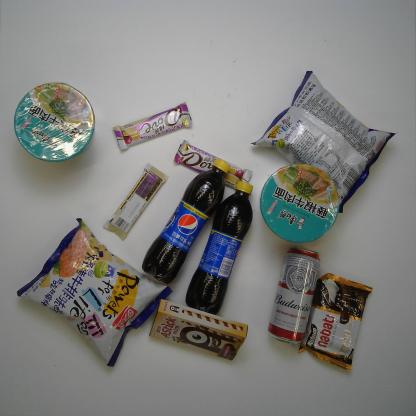Alcohol: (271, 248, 320, 351)
Chocolate: (103, 167, 171, 241), (111, 98, 195, 157), (173, 139, 250, 194)
Dessert: (299, 272, 376, 374), (145, 301, 245, 361)
Drink: (146, 161, 232, 287), (190, 180, 256, 322)
Instant Noodles: (266, 164, 343, 250), (13, 82, 95, 160)
Puffed Food: (15, 219, 185, 361), (252, 71, 397, 213)
